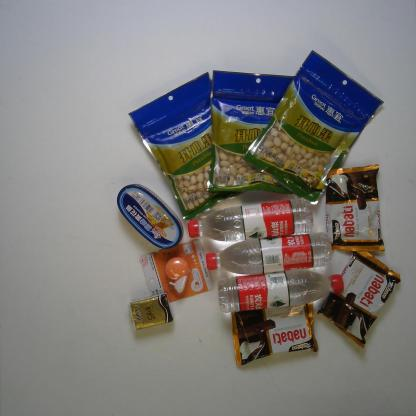Canned Food: (116, 183, 184, 249)
Dessert: (316, 249, 402, 348), (231, 300, 319, 367), (324, 163, 386, 254)
Dried Fruit: (243, 50, 386, 206), (128, 71, 247, 221), (205, 68, 298, 196)
Drink: (216, 268, 345, 313), (187, 197, 315, 242), (204, 232, 334, 276)
Stationery: (139, 240, 215, 304)
Tissue: (128, 291, 174, 331)
